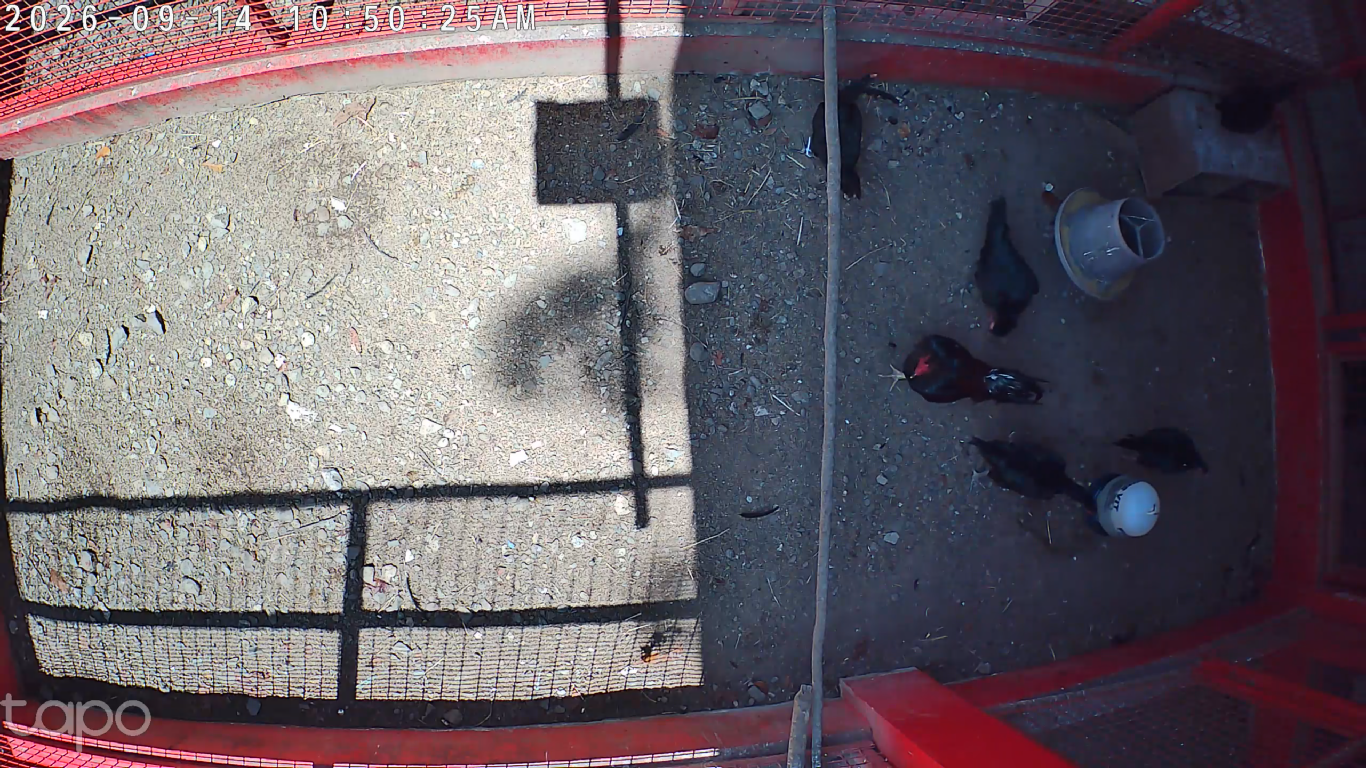Chicken: (957, 434, 1099, 519), (790, 70, 878, 206), (968, 195, 1040, 338), (1111, 423, 1210, 477)
Leg_Band_White: (806, 135, 812, 158)
Rooster: (873, 329, 1050, 413)
